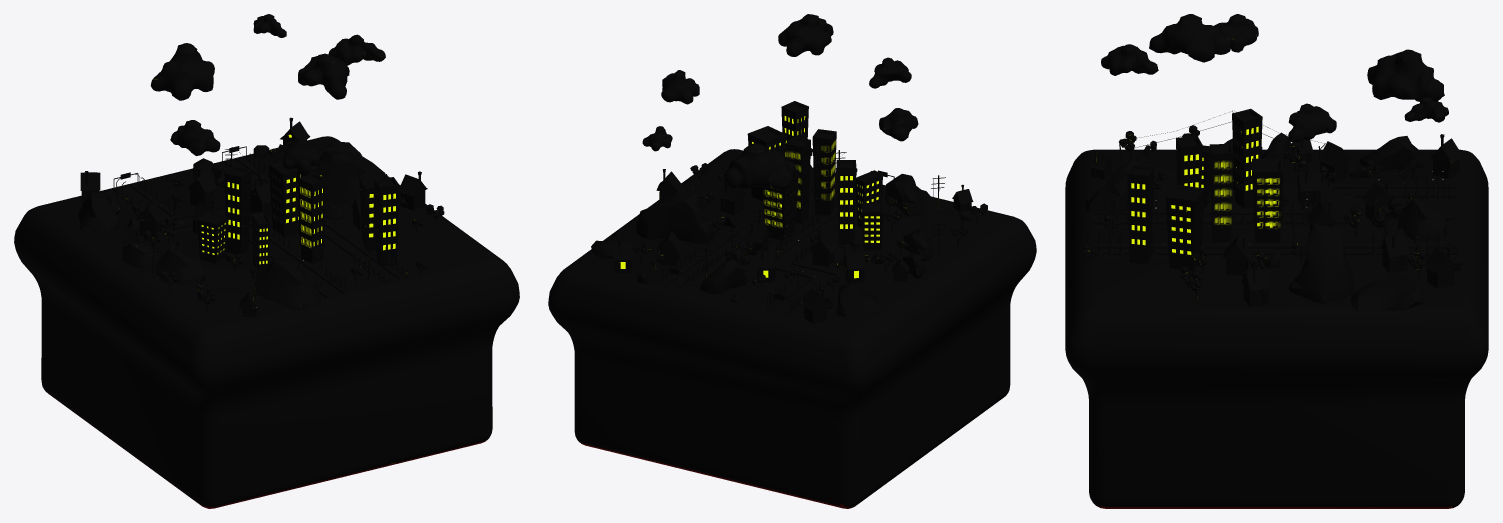
Rendered from City_Model.fbx.
The picture shows the model from 3 angles, left to right: view 1: azimuth 30°, elevation 25°; view 2: azimuth 150°, elevation 25°; view 3: azimuth 270°, elevation 25°; orthographic projection. The views are drawn at different scales.
Visible parts, largest first — view 1: City_Baked; view 2: City_Baked; view 3: City_Baked.
Part boxes in pixels (x1,y1,x2,y2): City_Baked: (14,14,519,508); City_Baked: (548,14,1036,508); City_Baked: (1065,14,1488,508).
Bounding box in the file's own units: 23.75 × 26.69 × 23.75.
